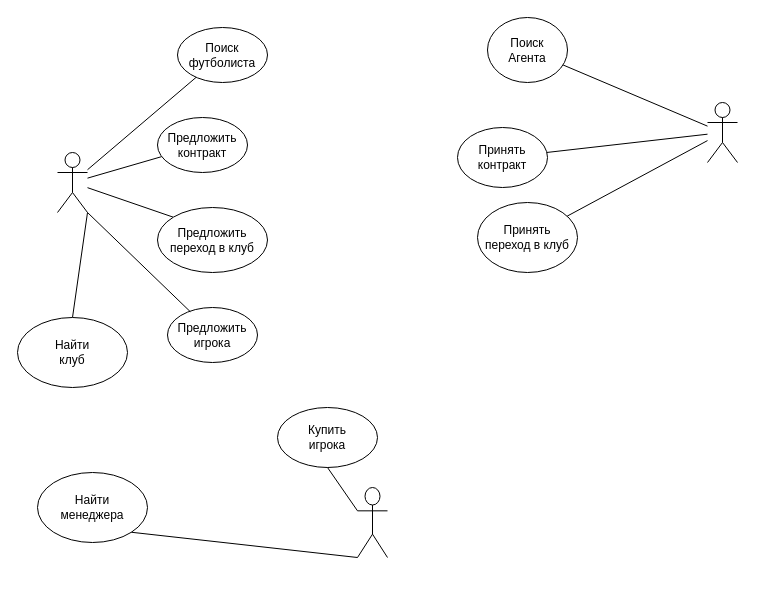
Some shapes in this 769 by 596 pixel diagram are drawn without their labels. Here are the shapes that lost their labels. From the top down, the centre of each, then its label:
At point 722,132: "Футболист".
At point 72,182: "Менеджер".
At point 372,522: "Клуб".
